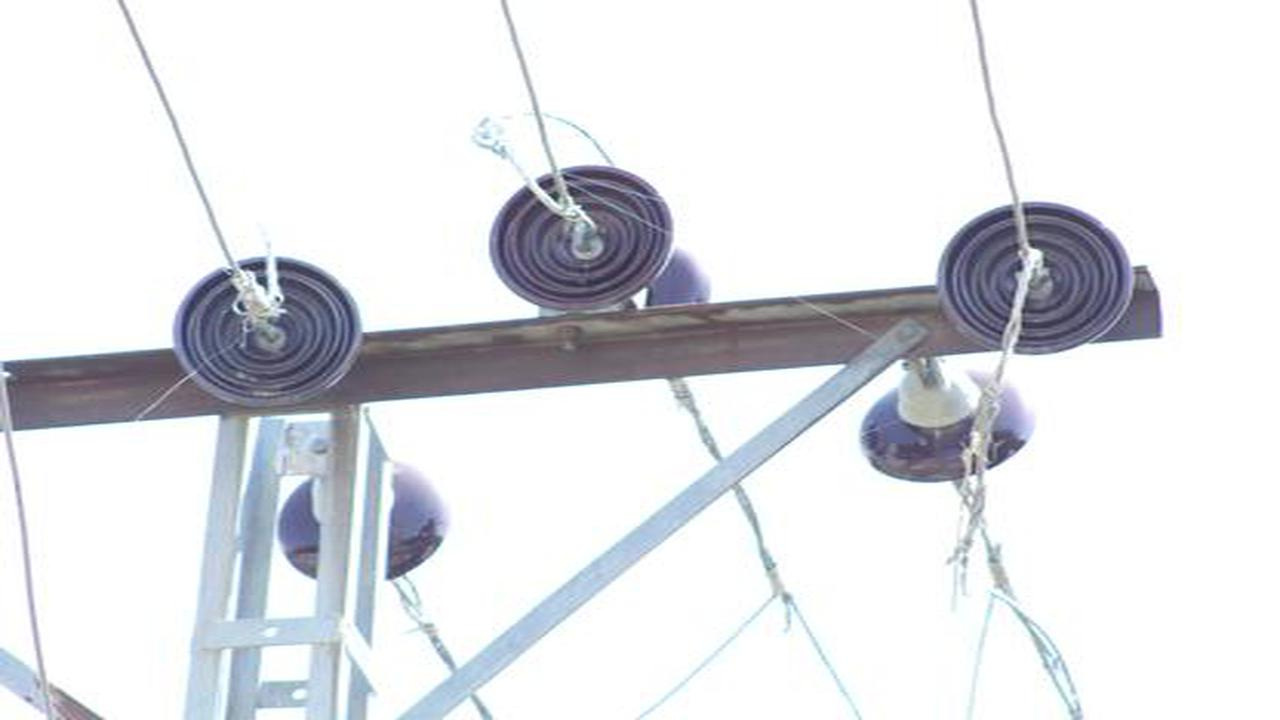insulator_disc: (932, 196, 1135, 359), (169, 251, 369, 412), (485, 162, 680, 310), (859, 364, 1039, 490)
